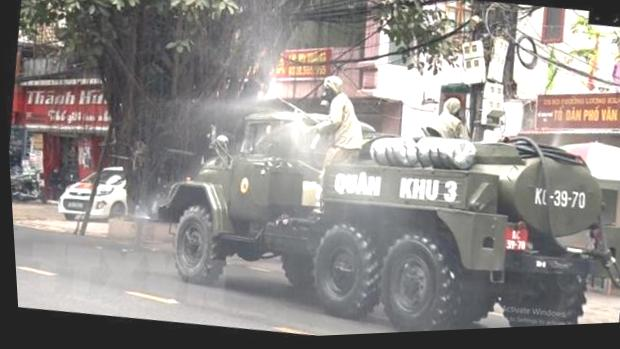License_Plate: (501, 225, 529, 253), (65, 200, 87, 210)
